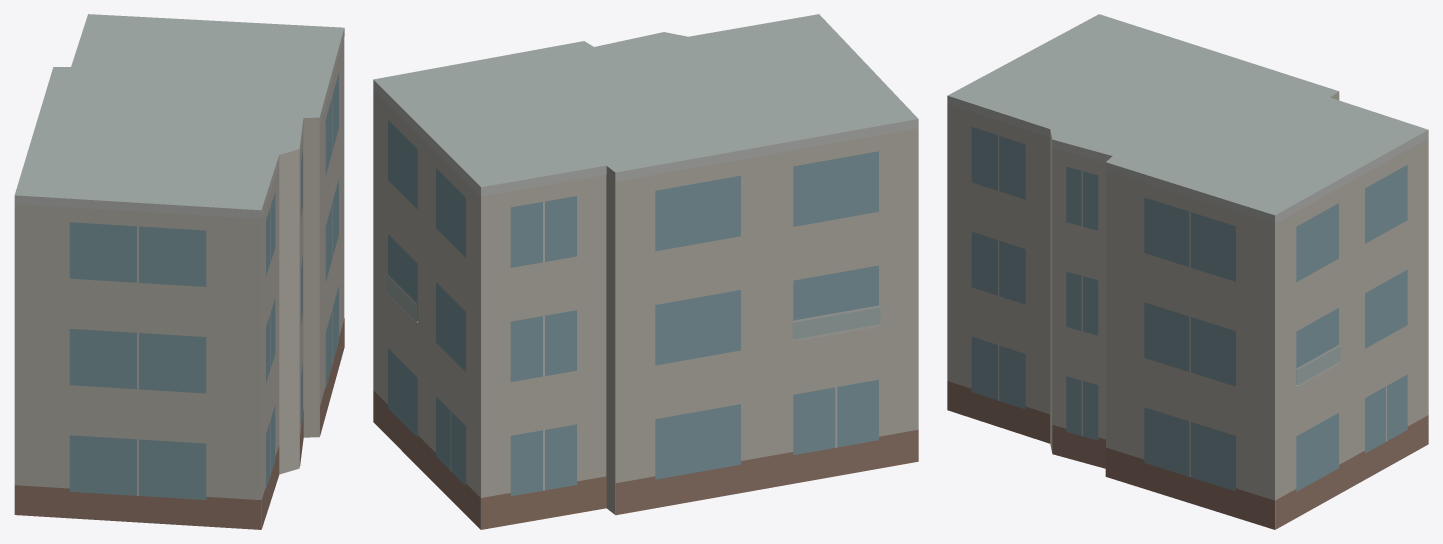
The model's file is survey-upis-32961598.glb.
The picture shows the model from 3 angles, left to right: view 1: azimuth 30°, elevation 25°; view 2: azimuth 150°, elevation 25°; view 3: azimuth 270°, elevation 25°; orthographic projection. The views are drawn at different scales.
Visible parts, largest first — view 1: survey-upis-32961598.tmp; view 2: survey-upis-32961598.tmp; view 3: survey-upis-32961598.tmp.
Part boxes in pixels (x1,y1,x2,y2): survey-upis-32961598.tmp: [14, 14, 344, 529]; survey-upis-32961598.tmp: [373, 14, 918, 529]; survey-upis-32961598.tmp: [947, 14, 1428, 529].
Size of the model in its own units: 12.57 by 9.15 by 12.69.
